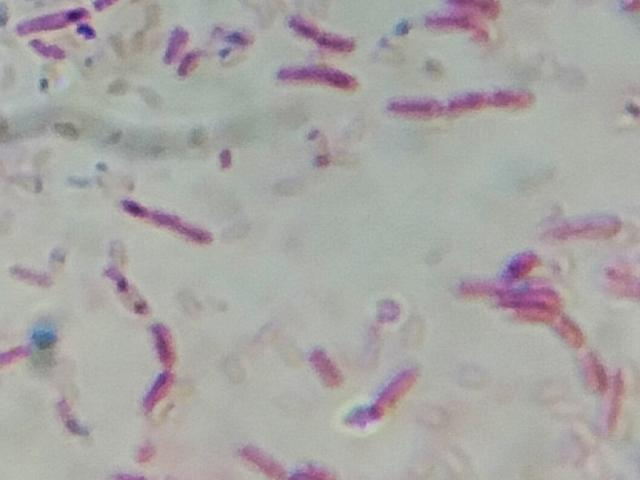E. coli: (391, 90, 542, 123), (119, 196, 216, 247), (139, 322, 182, 406), (419, 0, 504, 39), (472, 279, 566, 313), (286, 10, 359, 50), (366, 363, 421, 416), (562, 322, 602, 386), (535, 213, 622, 242), (16, 6, 95, 33), (105, 263, 144, 315), (281, 62, 357, 87), (165, 26, 202, 77), (239, 439, 285, 480), (309, 343, 343, 386), (0, 338, 38, 371), (35, 37, 73, 66), (209, 22, 253, 47), (9, 259, 48, 283), (499, 246, 530, 271)
